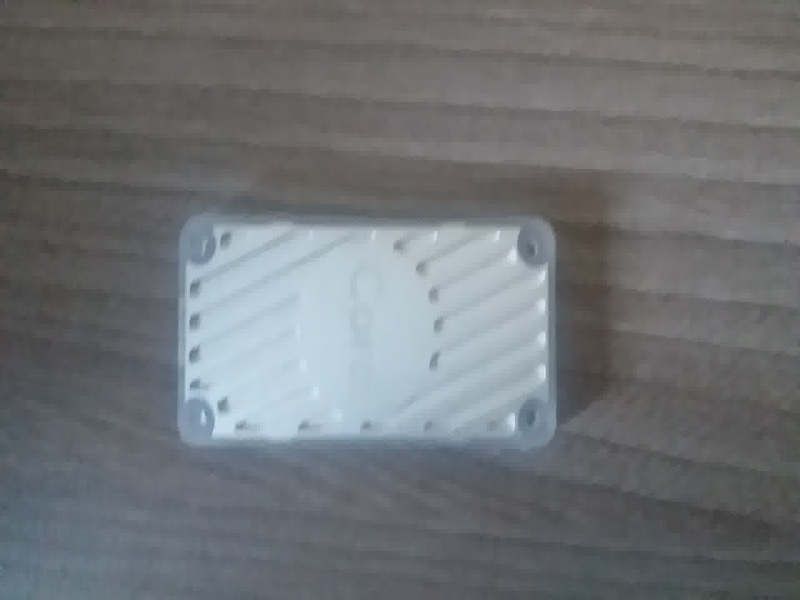coral: (162, 202, 580, 470)
